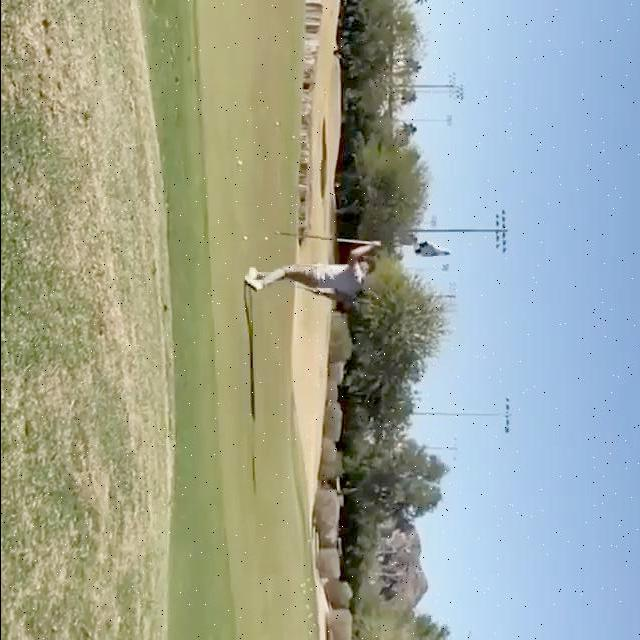golf ball: (237, 160, 242, 165), (241, 236, 246, 240), (263, 237, 267, 241)
golf club-handle: (278, 280, 322, 296)
